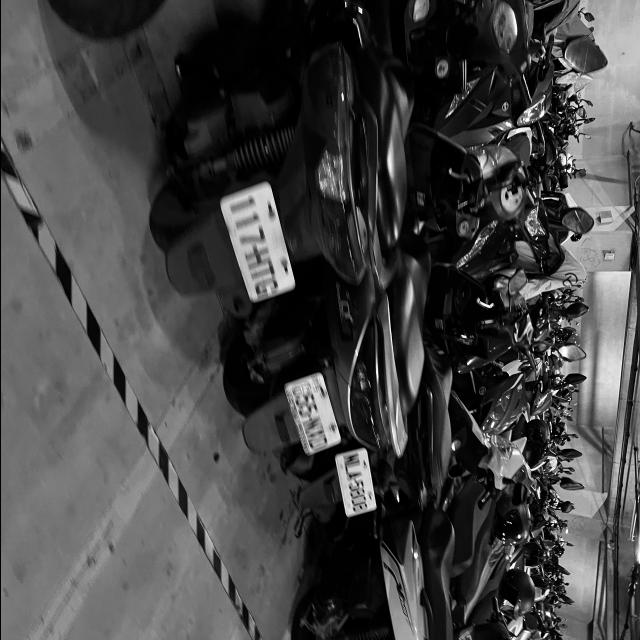7: (237, 224, 267, 248)
plate: (220, 187, 291, 304), (287, 377, 340, 456), (336, 451, 377, 518)
